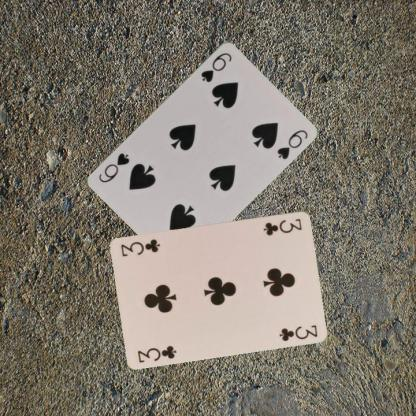3c: (135, 343, 178, 364), (260, 216, 304, 236)
6s: (198, 50, 233, 83)
